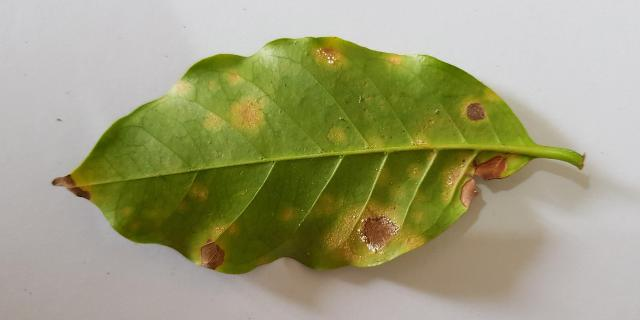cercospora: (321, 198, 429, 267), (442, 151, 519, 212), (460, 88, 501, 123), (52, 172, 92, 202), (229, 98, 262, 131), (198, 237, 226, 271), (312, 47, 347, 69), (312, 193, 336, 215), (214, 224, 239, 237), (205, 112, 221, 130), (191, 183, 206, 201), (330, 128, 346, 141), (392, 185, 405, 200), (364, 138, 384, 147), (280, 208, 293, 221), (409, 164, 420, 177), (415, 137, 427, 146), (391, 56, 400, 64), (426, 152, 433, 162), (181, 83, 188, 91), (231, 75, 238, 81), (260, 261, 268, 264), (638, 318, 640, 320), (0, 318, 1, 320), (638, 0, 640, 1), (431, 122, 431, 122), (335, 37, 337, 37)
